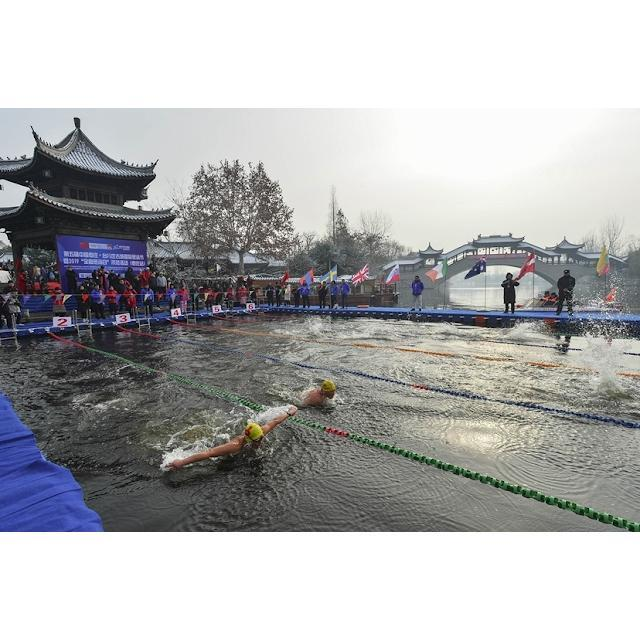human: (167, 403, 297, 472), (298, 378, 338, 409)
